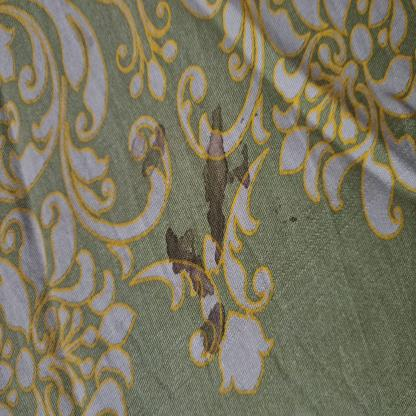spot: (194, 87, 263, 268), (161, 224, 223, 304), (135, 109, 177, 201), (196, 283, 235, 379), (271, 186, 315, 241)
